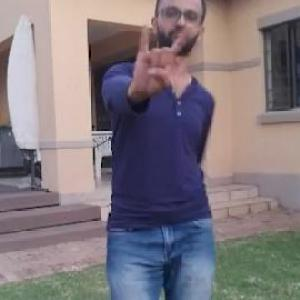takeoff-hand: (125, 12, 184, 102)
